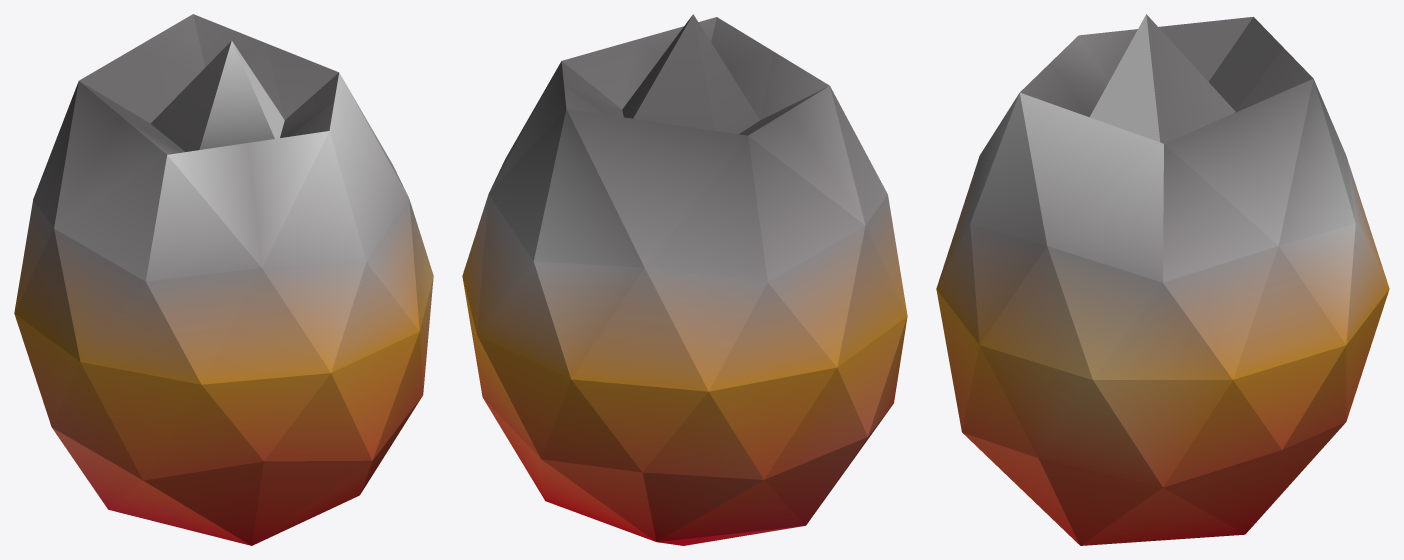
Rendered from comet.gltf.
3 renders of one model, left to right at view 1: azimuth 30°, elevation 25°; view 2: azimuth 150°, elevation 25°; view 3: azimuth 270°, elevation 25°, orthographic. The views are drawn at different scales.
Visible parts, largest first — view 1: Icosphere; view 2: Icosphere; view 3: Icosphere.
Boxes of the visible parts, x1,y1,x2,y2 form: Icosphere: [14, 14, 433, 545]; Icosphere: [462, 14, 907, 545]; Icosphere: [936, 14, 1389, 545].
Size of the model in its own units: 1.9 by 2.54 by 2.
